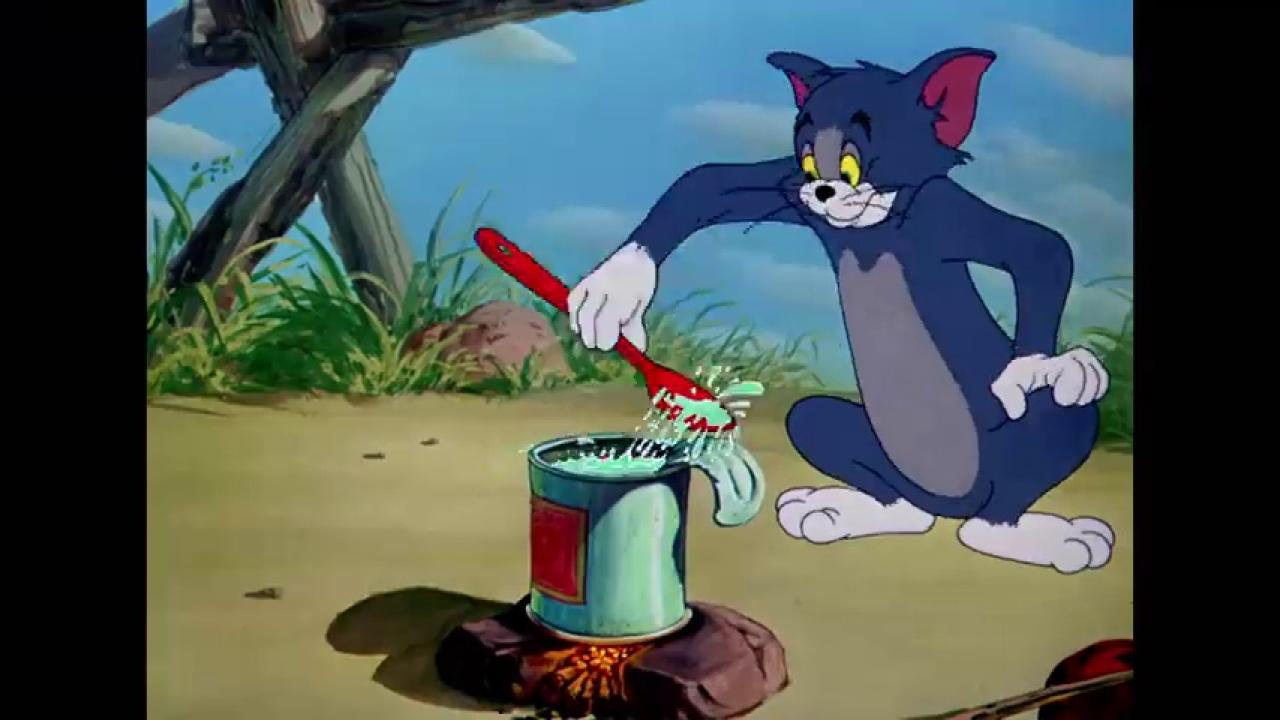Tom: (567, 43, 1116, 574)
